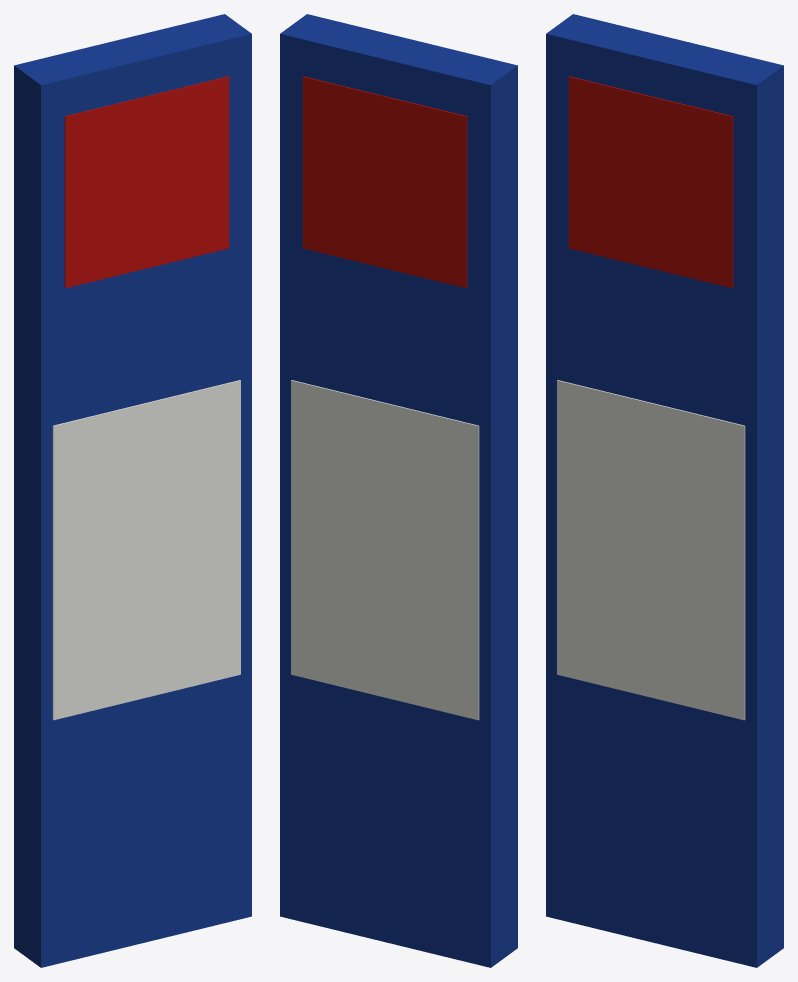
The model's file is station.rail.totem.glb.
3 renders of one model, left to right at view 1: azimuth 30°, elevation 25°; view 2: azimuth 150°, elevation 25°; view 3: azimuth 330°, elevation 25°, orthographic.
Parts seen in each view (by area): view 1: main__plastic_blue, main__paint_white, main__plastic_red; view 2: main__plastic_blue, main__paint_white, main__plastic_red; view 3: main__plastic_blue, main__paint_white, main__plastic_red.
Part boxes in pixels (left/top/right/bottom): main__plastic_blue: left=14, top=14, right=251, bottom=967; main__paint_white: left=52, top=380, right=240, bottom=720; main__plastic_red: left=64, top=76, right=229, bottom=288; main__plastic_blue: left=280, top=14, right=517, bottom=967; main__paint_white: left=291, top=380, right=479, bottom=720; main__plastic_red: left=302, top=76, right=467, bottom=288; main__plastic_blue: left=546, top=14, right=783, bottom=967; main__paint_white: left=557, top=380, right=745, bottom=720; main__plastic_red: left=568, top=76, right=733, bottom=288.
Size of the model in its own units: 0.9 by 3.6 by 0.21.
